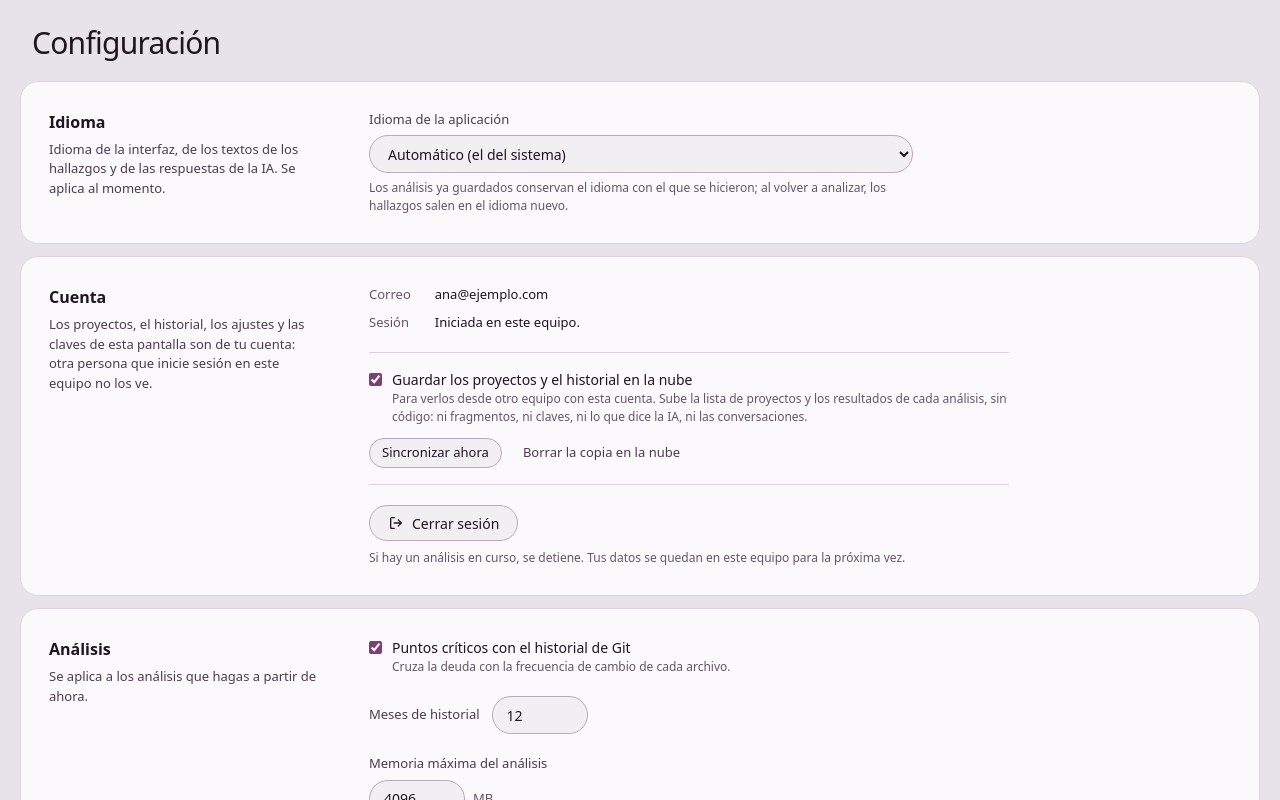
Test: Configuración › un cambio aparece como borrador y se puede descartar
The width and height of the screenshot is (1280, 800).
Click the checkbox labelled "Puntos críticos con el historial de Git". click: (376,648)
box: left=369, top=641, right=382, bottom=654
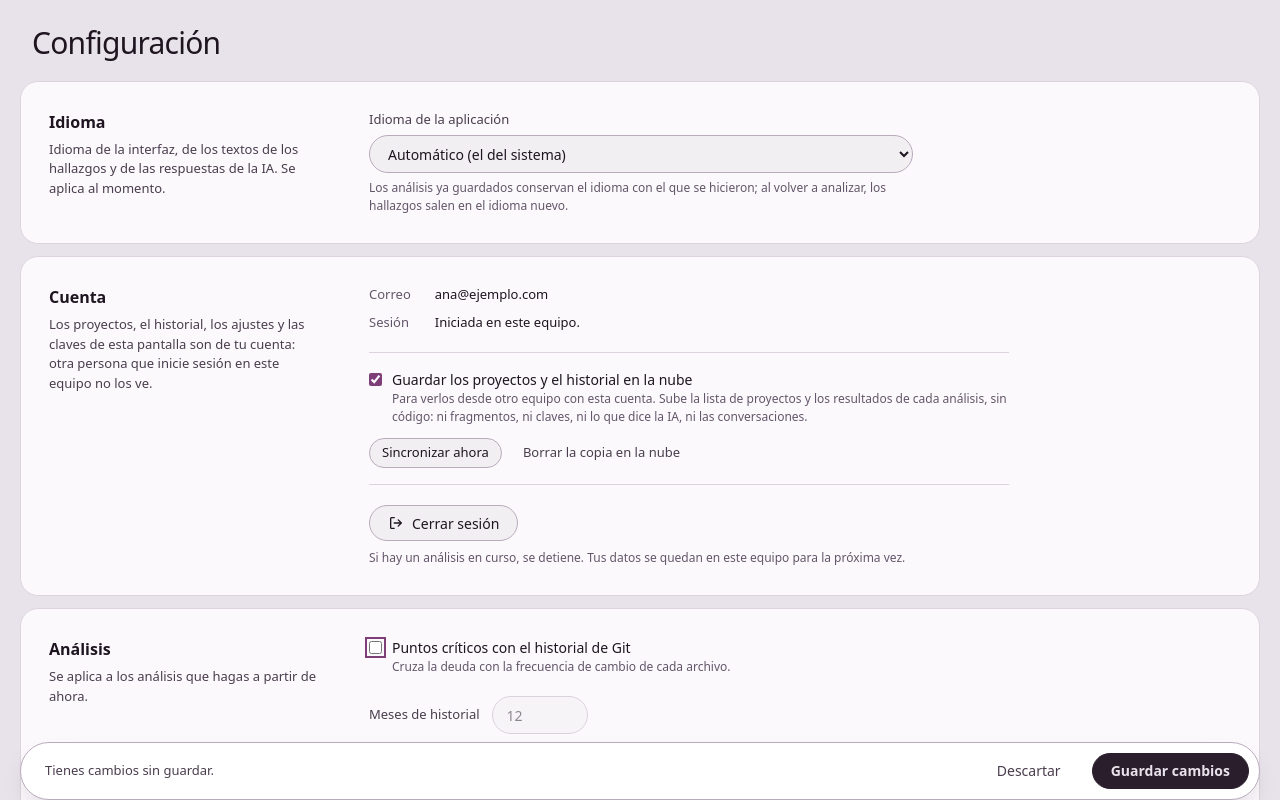
Expected: the text "Tienes cambios sin guardar." is shown, left=45, top=761, right=214, bottom=781
Click the button "Descartar". click: (1029,771)
box: left=978, top=753, right=1080, bottom=789
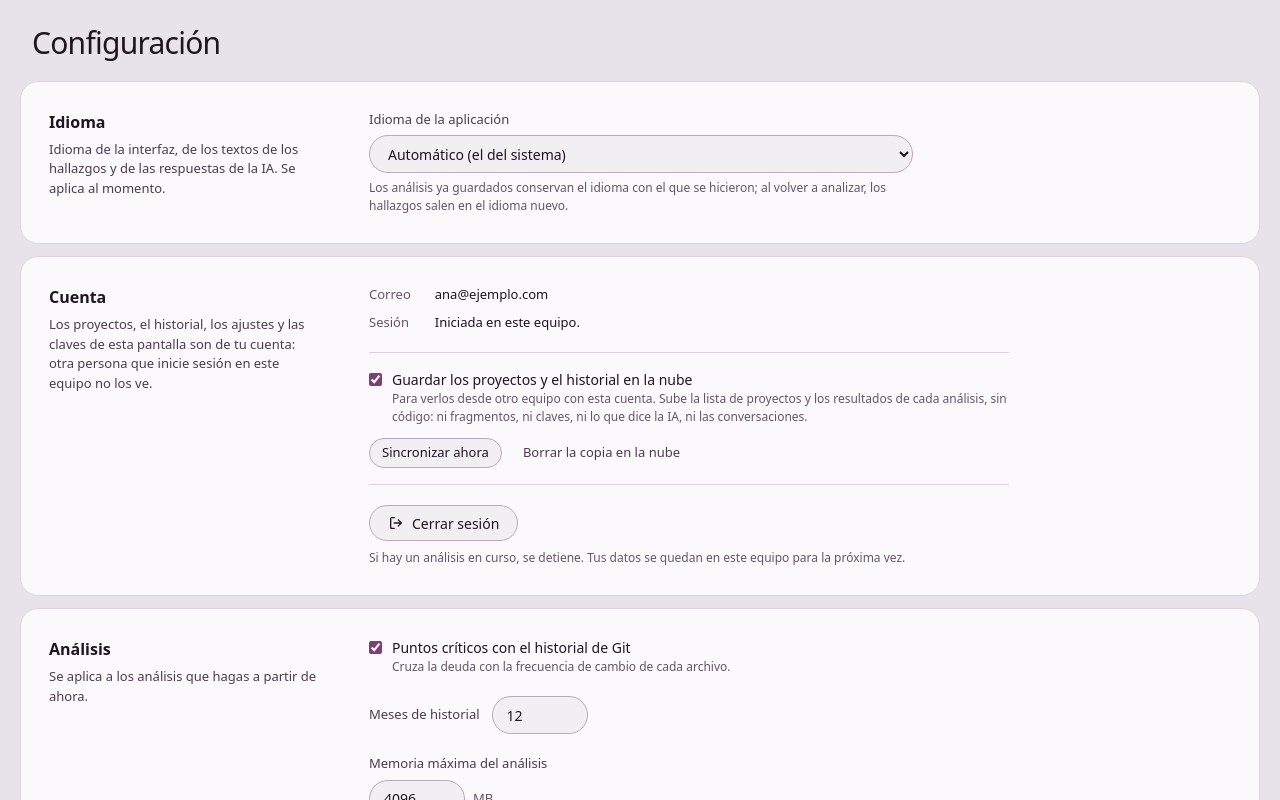
Expected: the checkbox labelled "Puntos críticos con el historial de Git" is checked, left=369, top=641, right=382, bottom=654
Expected: the button "Guardar cambios" is gone
